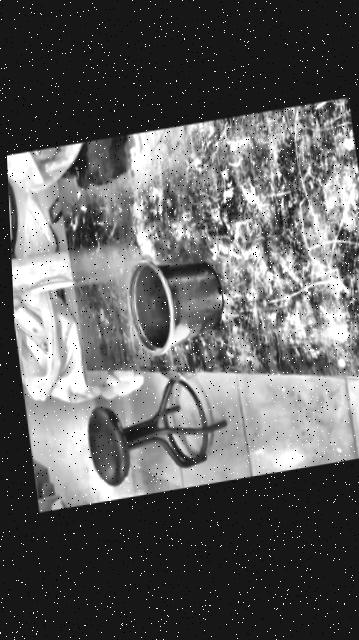pot: (121, 249, 227, 355)
